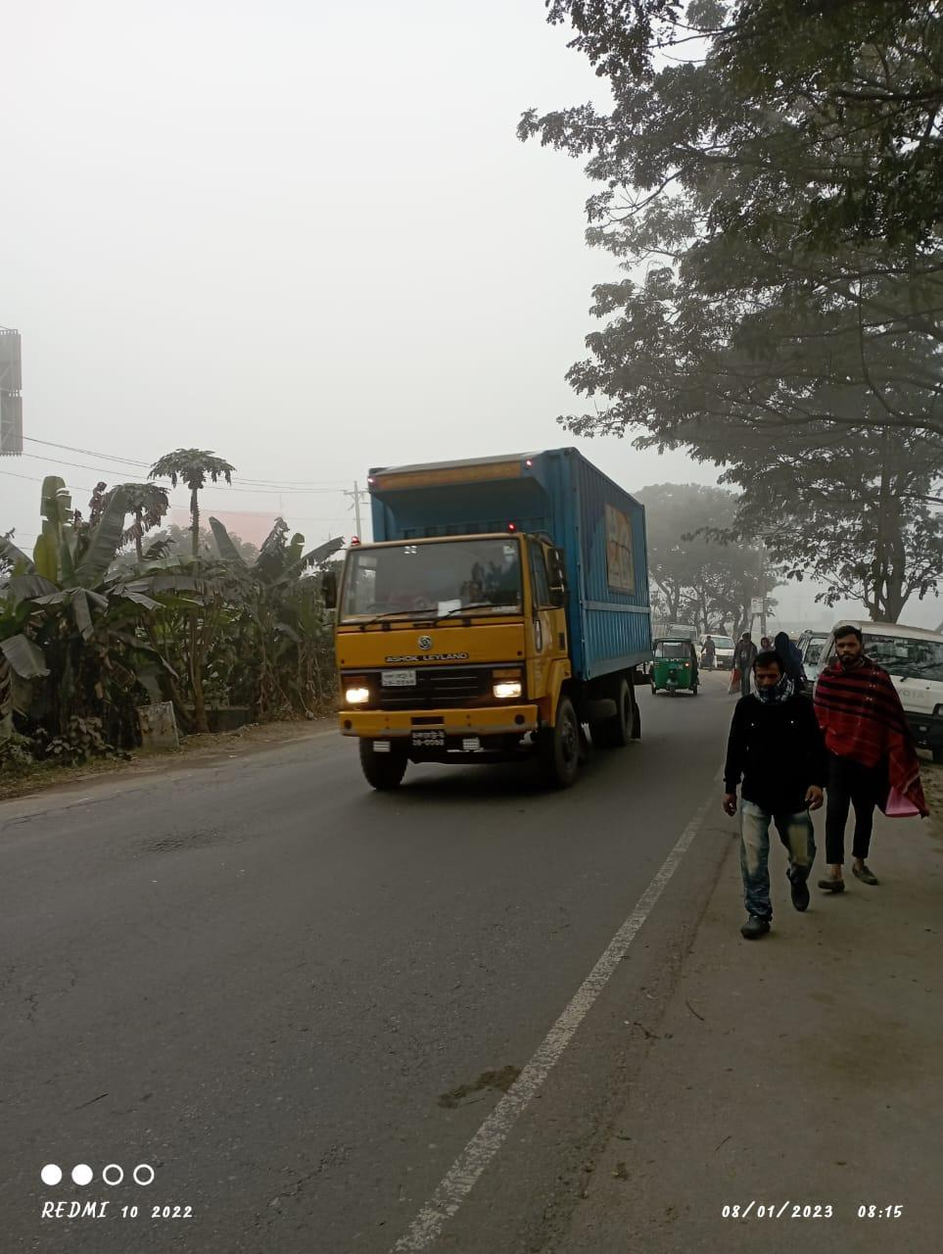Truck: (330, 442, 659, 783)
